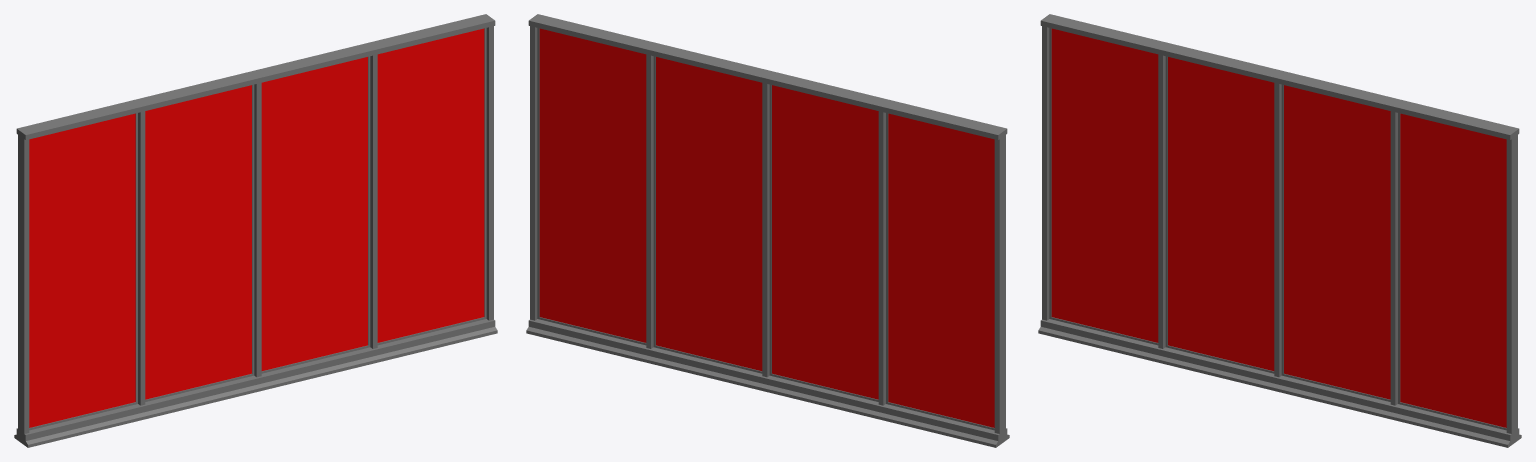
File: Window03.fbx
The picture shows the model from 3 angles, left to right: view 1: azimuth 30°, elevation 25°; view 2: azimuth 150°, elevation 25°; view 3: azimuth 330°, elevation 25°; orthographic projection.
Visible parts, largest first — view 1: Window03; view 2: Window03; view 3: Window03.
Boxes of the visible parts, <box> form: Window03: <box>14,14,497,447</box>; Window03: <box>526,14,1009,447</box>; Window03: <box>1038,14,1521,447</box>.
Bounding box in the file's own units: 240 × 152 × 12.
